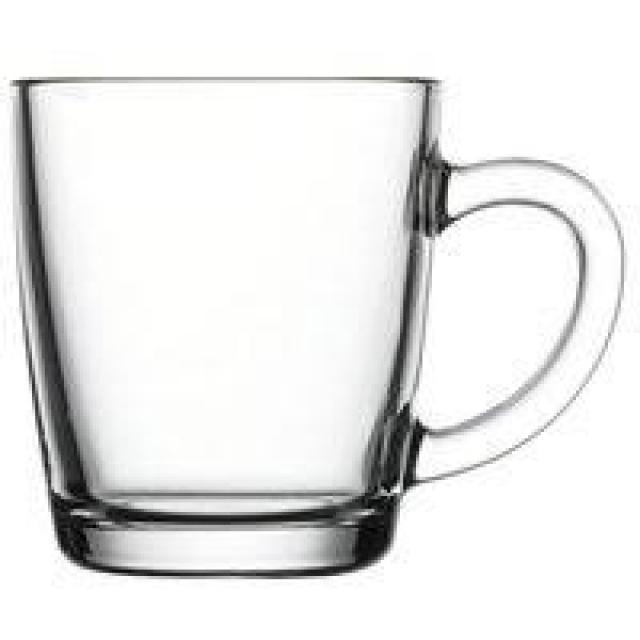Glass: (11, 74, 622, 571)
